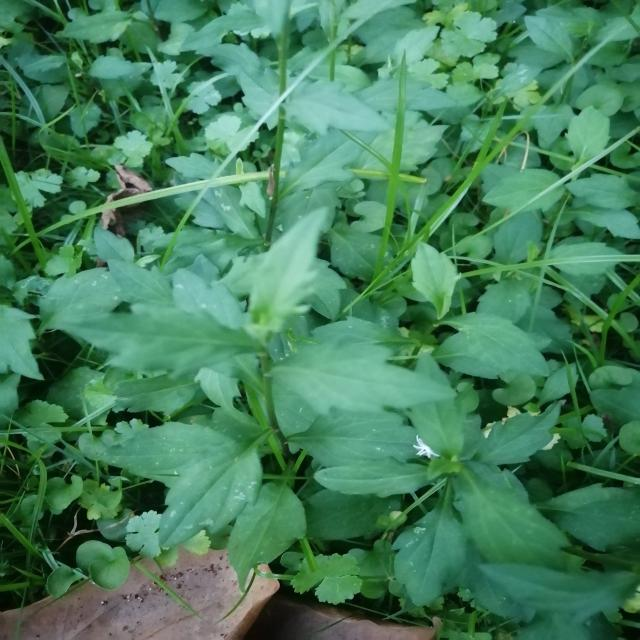Indian aster: (65, 220, 415, 574), (328, 347, 600, 602)
